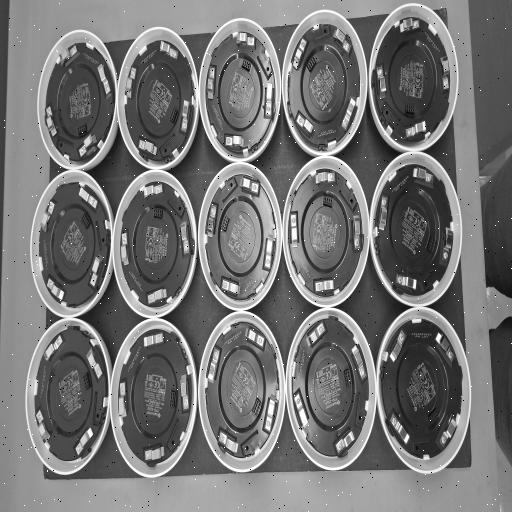yayli: (262, 394, 279, 436), (389, 412, 410, 446), (434, 330, 455, 363), (292, 390, 309, 430), (439, 415, 458, 447), (389, 329, 407, 362), (206, 346, 222, 383), (75, 427, 94, 457), (217, 427, 238, 454), (334, 427, 354, 455), (44, 333, 64, 361), (352, 344, 367, 381), (244, 324, 266, 349), (292, 38, 308, 72), (332, 26, 351, 54), (86, 347, 102, 380), (88, 255, 104, 288), (78, 186, 98, 212), (306, 320, 326, 346), (40, 201, 56, 233), (296, 110, 314, 137), (36, 410, 50, 444), (342, 98, 356, 132), (97, 63, 111, 97), (46, 277, 65, 302), (238, 175, 260, 196), (78, 134, 97, 158), (442, 226, 454, 264), (405, 120, 427, 140), (262, 236, 274, 272), (220, 277, 240, 298), (413, 166, 434, 186), (59, 45, 77, 68), (378, 195, 389, 231), (395, 274, 417, 292), (125, 67, 137, 100), (206, 203, 218, 236), (45, 106, 57, 138), (289, 211, 299, 249), (180, 100, 191, 134), (398, 17, 420, 34), (439, 58, 450, 92), (160, 40, 178, 60), (144, 182, 164, 200), (147, 288, 167, 306), (144, 445, 164, 463), (376, 66, 387, 98), (118, 381, 127, 420), (180, 374, 189, 412), (180, 222, 190, 256), (315, 170, 336, 186), (120, 230, 129, 266), (144, 331, 164, 347), (264, 84, 273, 118), (314, 279, 334, 293), (353, 215, 361, 250), (208, 66, 216, 100), (236, 32, 254, 47), (225, 134, 243, 148), (138, 139, 146, 151), (46, 106, 52, 118)
